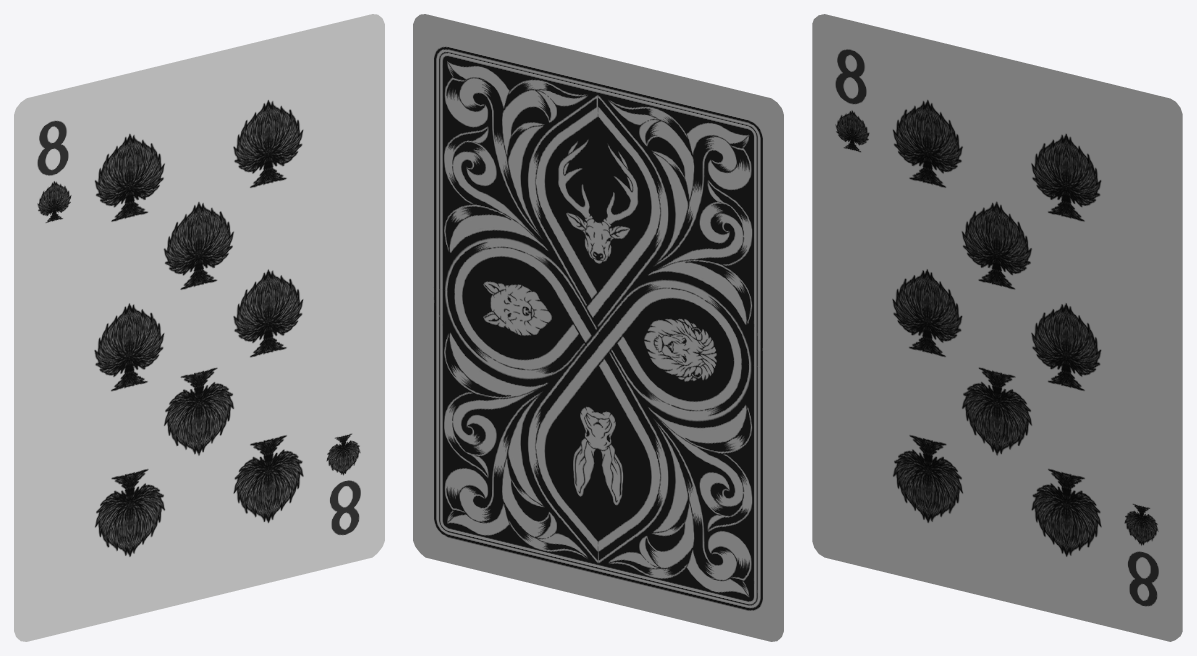
The picture shows the model from 3 angles, left to right: view 1: azimuth 30°, elevation 25°; view 2: azimuth 150°, elevation 25°; view 3: azimuth 330°, elevation 25°; orthographic projection.
Visible parts, largest first — view 1: Node; view 2: Node; view 3: Node.
Part boxes in pixels (box(x1,y1,x2,y2)): Node: box(14, 14, 384, 641); Node: box(413, 14, 783, 641); Node: box(812, 14, 1182, 641).
Size of the model in its own units: 1.5 by 2.1 by 7.08e-05.
Materials: 1 (1 with a texture image).
